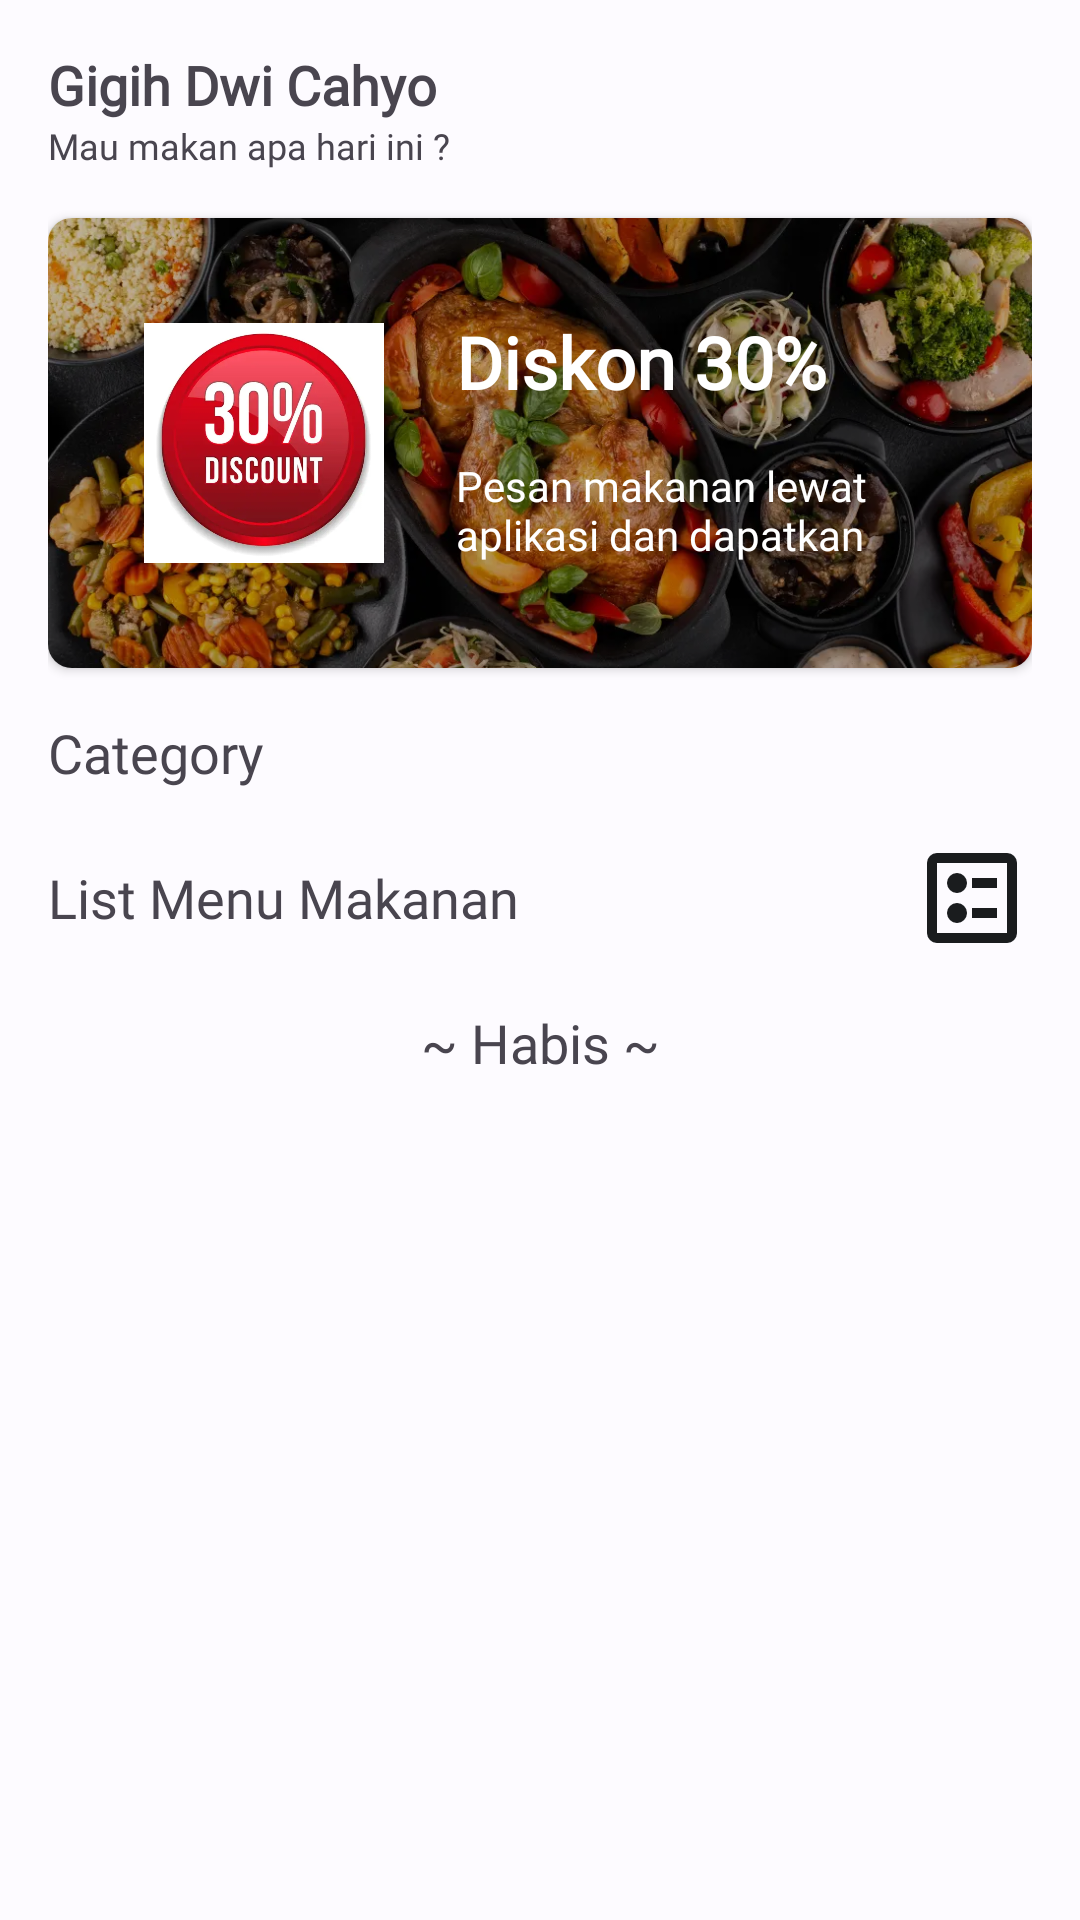

Named icons in this screenshot (1080px×1920px) and their bounding boxes, [x1, y1, x2, y2]:
list: [927, 853, 1017, 943]
